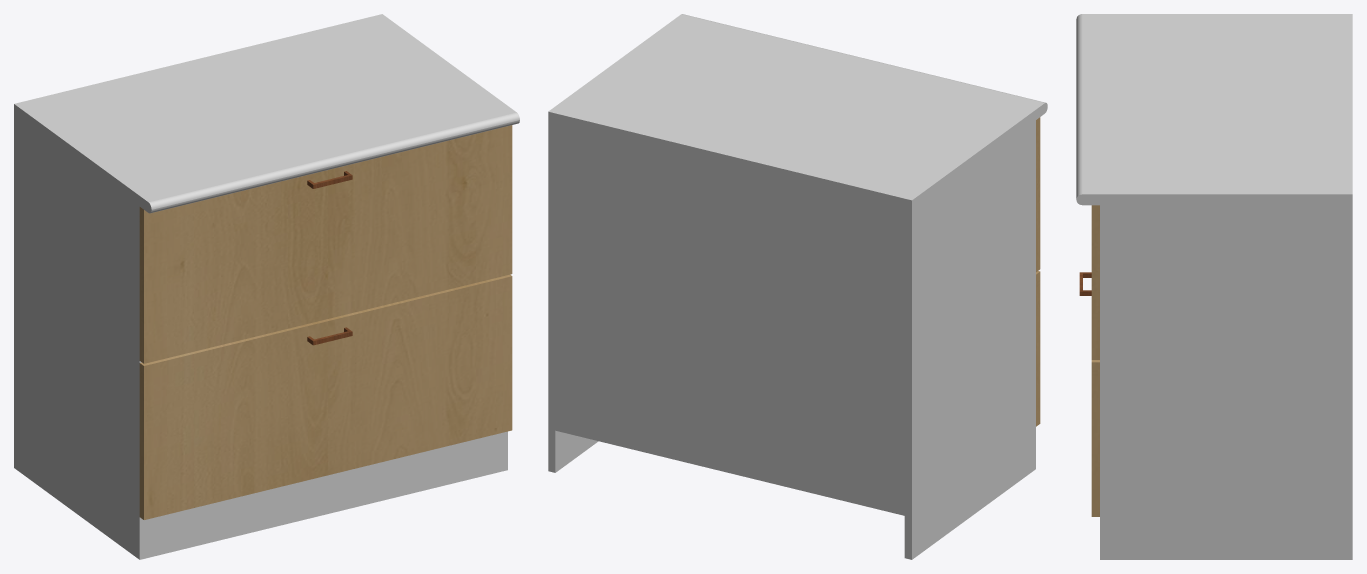
File: drawer-900.glb
3 views of the same model, side by side, from view 1: azimuth 30°, elevation 25°; view 2: azimuth 150°, elevation 25°; view 3: azimuth 270°, elevation 25° (orthographic).
Parts seen in each view (by area): view 1: Mesh_2_group, Mesh_5_group, Mesh_0_group, Mesh_1_group; view 2: Mesh_0_group, Mesh_5_group, Mesh_1_group, Mesh_2_group; view 3: Mesh_0_group, Mesh_5_group, Mesh_1_group, Mesh_2_group.
Part boxes in pixels (<box>): Mesh_2_group: <box>139,125,512,519</box>; Mesh_5_group: <box>14,14,519,213</box>; Mesh_0_group: <box>14,115,141,516</box>; Mesh_1_group: <box>14,425,507,559</box>; Mesh_0_group: <box>548,120,1035,517</box>; Mesh_5_group: <box>548,14,1047,210</box>; Mesh_1_group: <box>548,427,1035,559</box>; Mesh_2_group: <box>1036,117,1040,426</box>; Mesh_0_group: <box>1100,205,1352,516</box>; Mesh_5_group: <box>1076,14,1352,205</box>; Mesh_1_group: <box>1100,517,1352,559</box>; Mesh_2_group: <box>1091,205,1099,516</box>.
Bounding box in the file's own units: 0.9 × 0.85 × 0.582.
3 materials, 2 textured.
